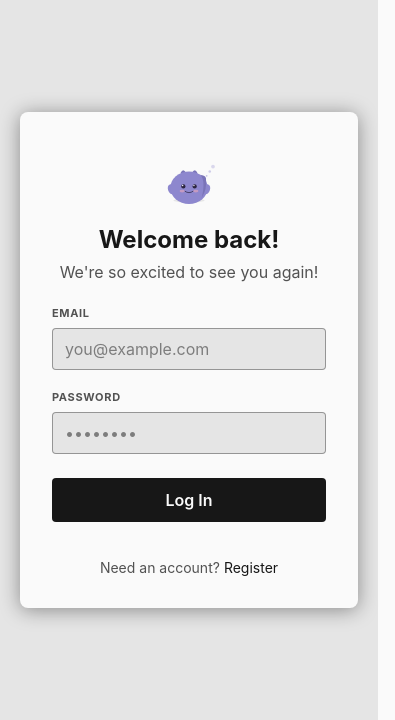
Auth — login › shows a plain wrong-credentials error as-is
The width and height of the screenshot is (395, 720).
Type "ard@example.com" into the field labelled "Email" at (189, 349), box [52, 328, 326, 370]
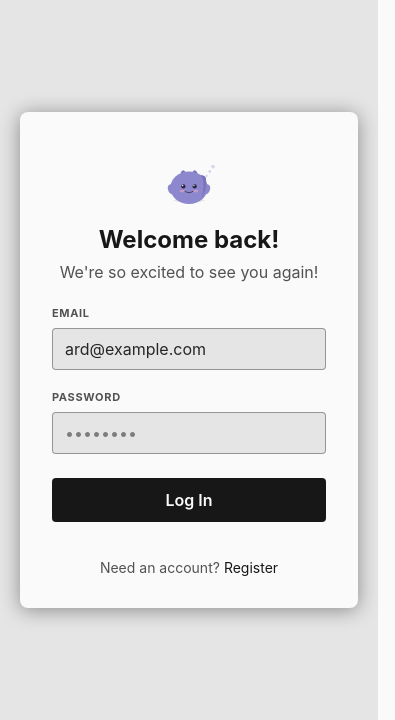
Type "wrong" into the password field labelled "Password" at (189, 433), box [52, 412, 326, 454]
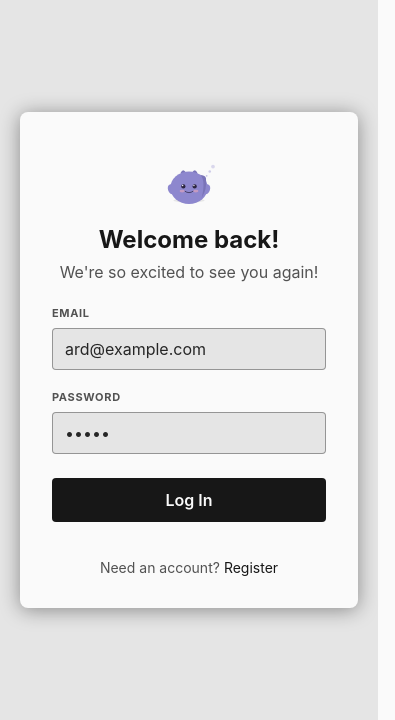
Click the submit button at (189, 500), box [52, 478, 326, 522]
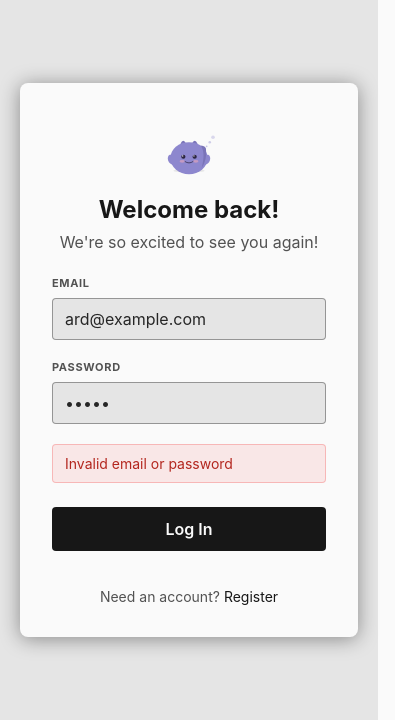
Expected: the text "Invalid email or password" is shown, [52, 444, 326, 484]
